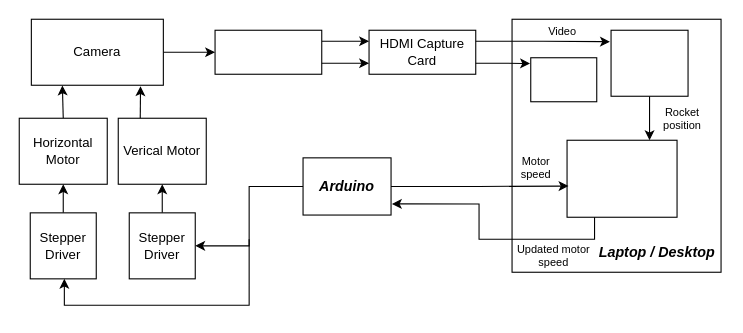
Some shapes in this 743 by 333 pixel diagram are drawn without their labels. Each missing label, with the box of its shape:
HDMI Splitter: (214, 29, 322, 74)
Rocket Detection: (610, 29, 688, 96)
Speed Controller: (566, 139, 677, 217)
Stream / Capture: (530, 57, 597, 102)
